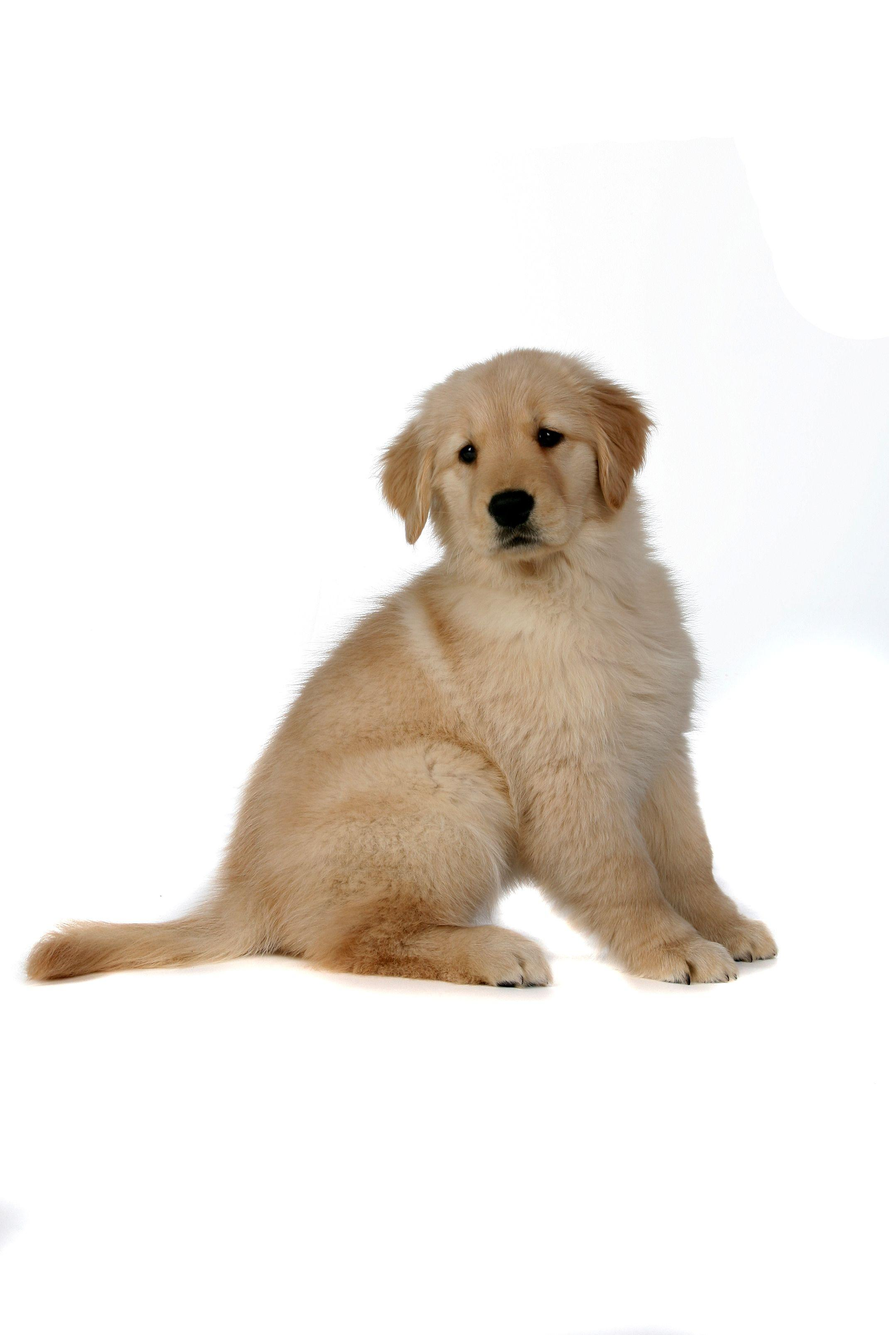puppy-dog: (20, 346, 782, 990)
